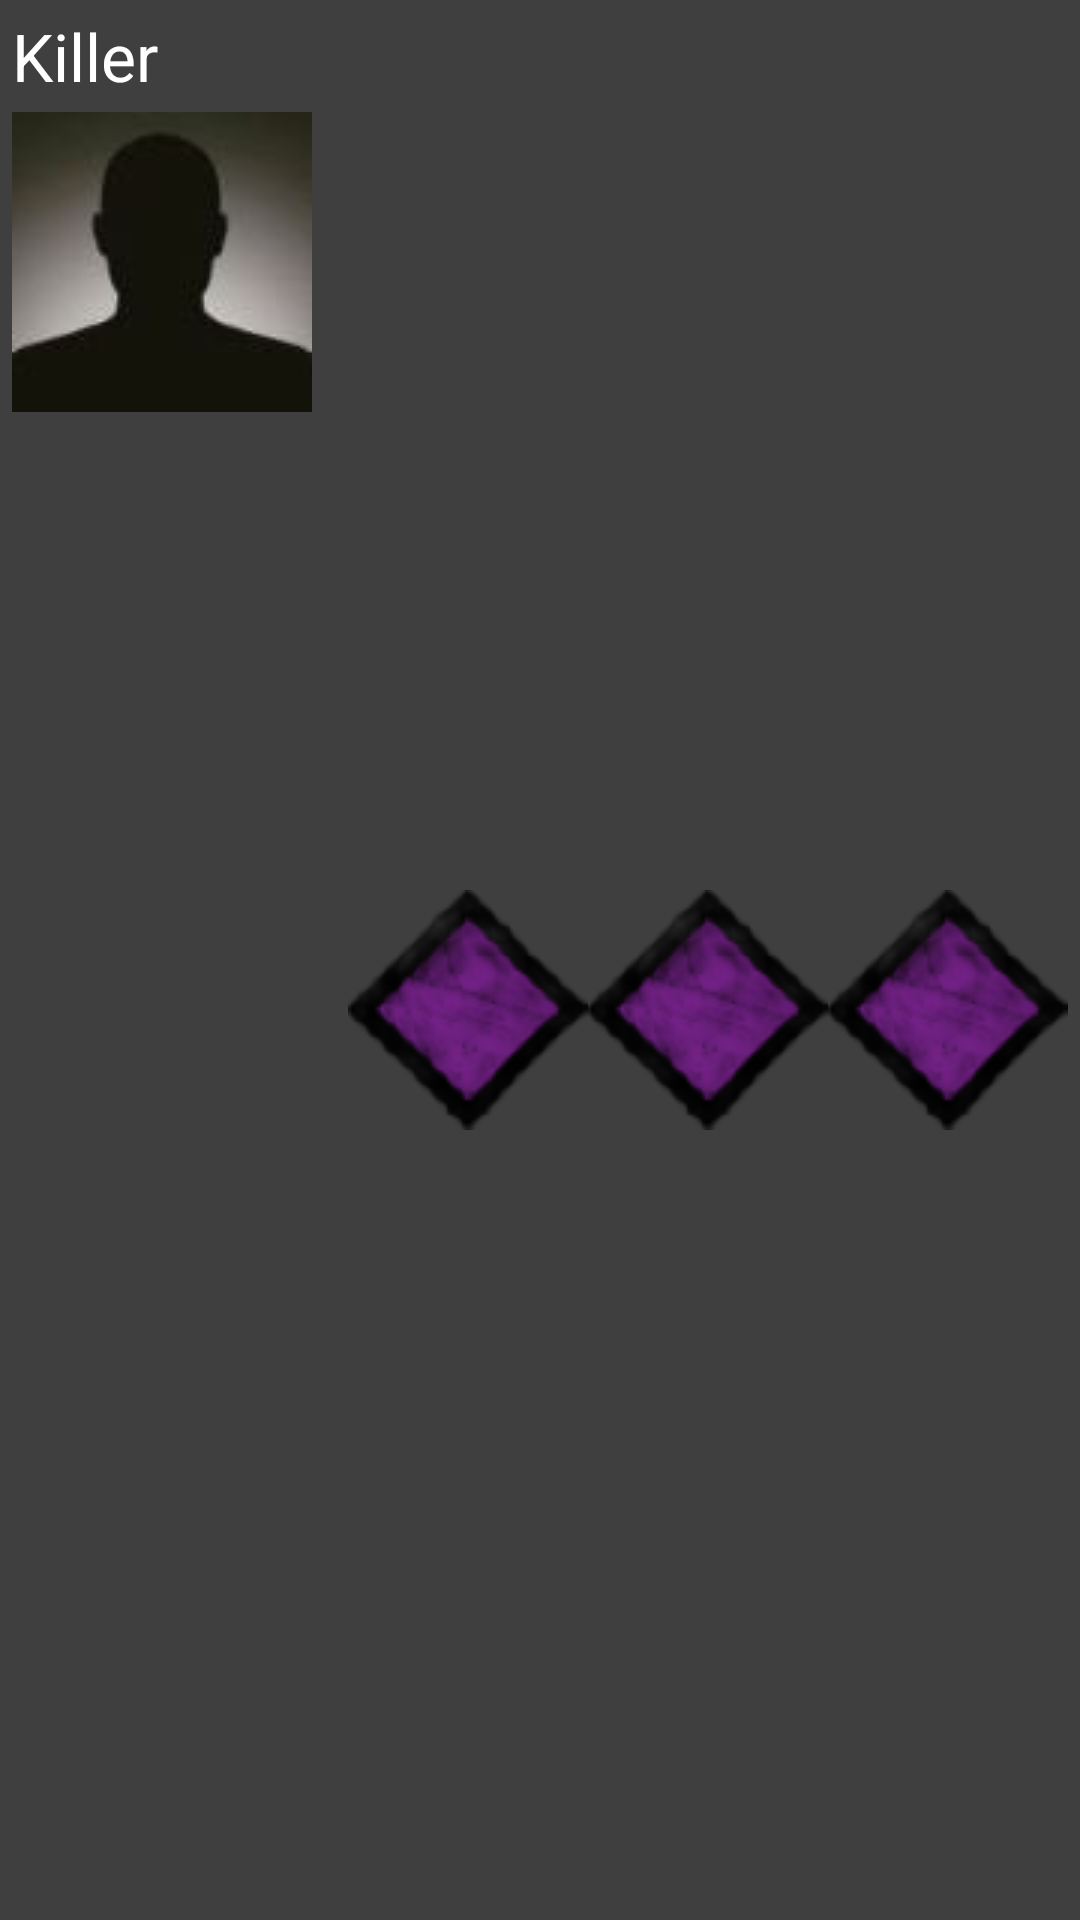

Where icons sit on this 1080px×1920px app screen, as BBox(x1, y1, x2, y2):
perk: BBox(348, 890, 588, 1130), BBox(588, 890, 828, 1130), BBox(828, 890, 1068, 1130)
